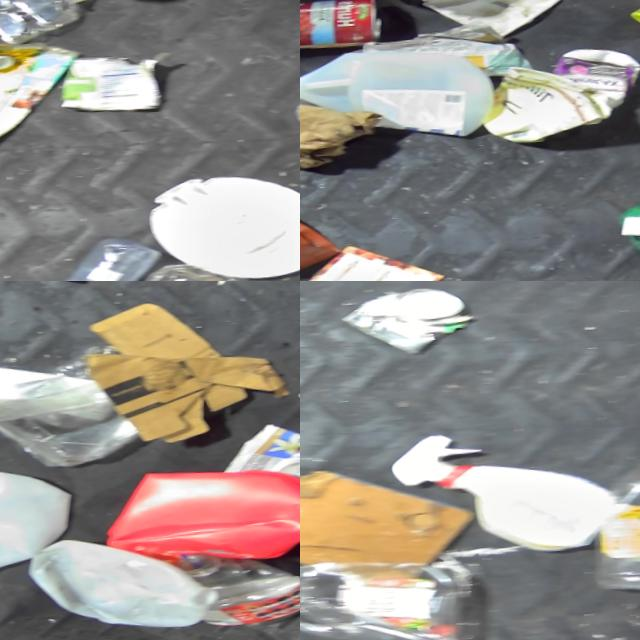can: (332, 281, 482, 358), (300, 0, 393, 53)
milk_jug: (300, 40, 506, 148), (25, 527, 205, 635), (0, 458, 72, 582)
non_white_jug: (105, 454, 300, 565)
plastic_bottle: (300, 551, 462, 640), (0, 226, 155, 281), (594, 415, 640, 600)
